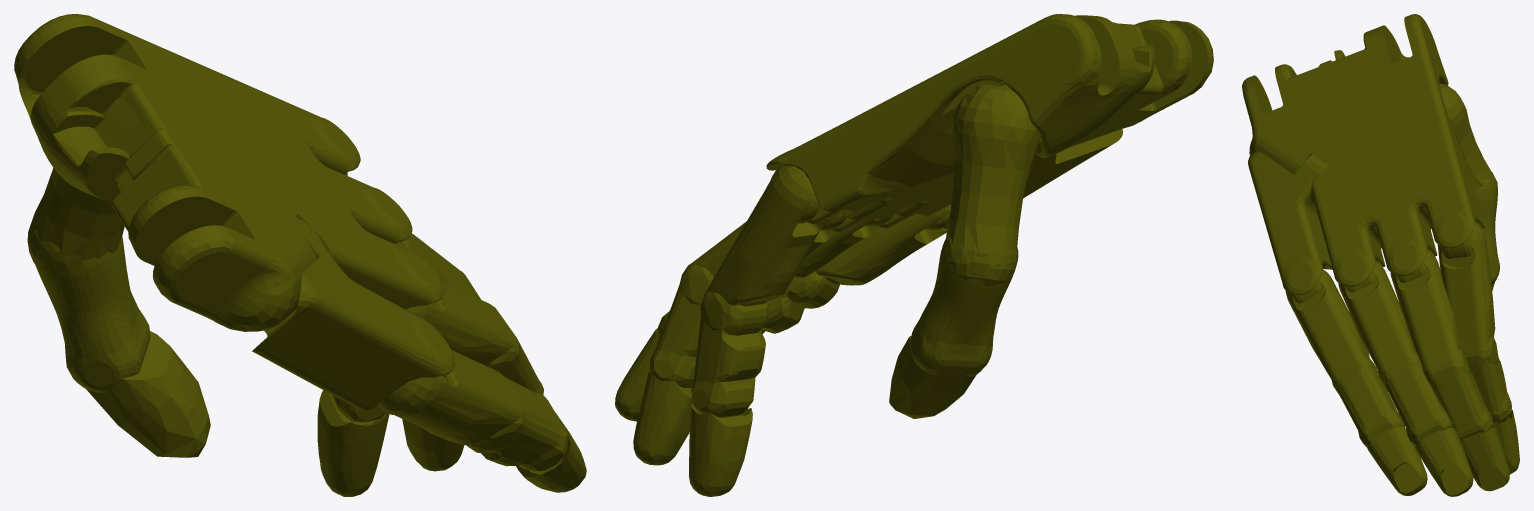
The model's file is hand_mesh_test.obj.
3 renders of one model, left to right at view 1: azimuth 30°, elevation 25°; view 2: azimuth 150°, elevation 25°; view 3: azimuth 270°, elevation 25°, orthographic. The views are drawn at different scales.
Bounding box in the file's own units: 0.1516 × 0.1602 × 0.1127.
